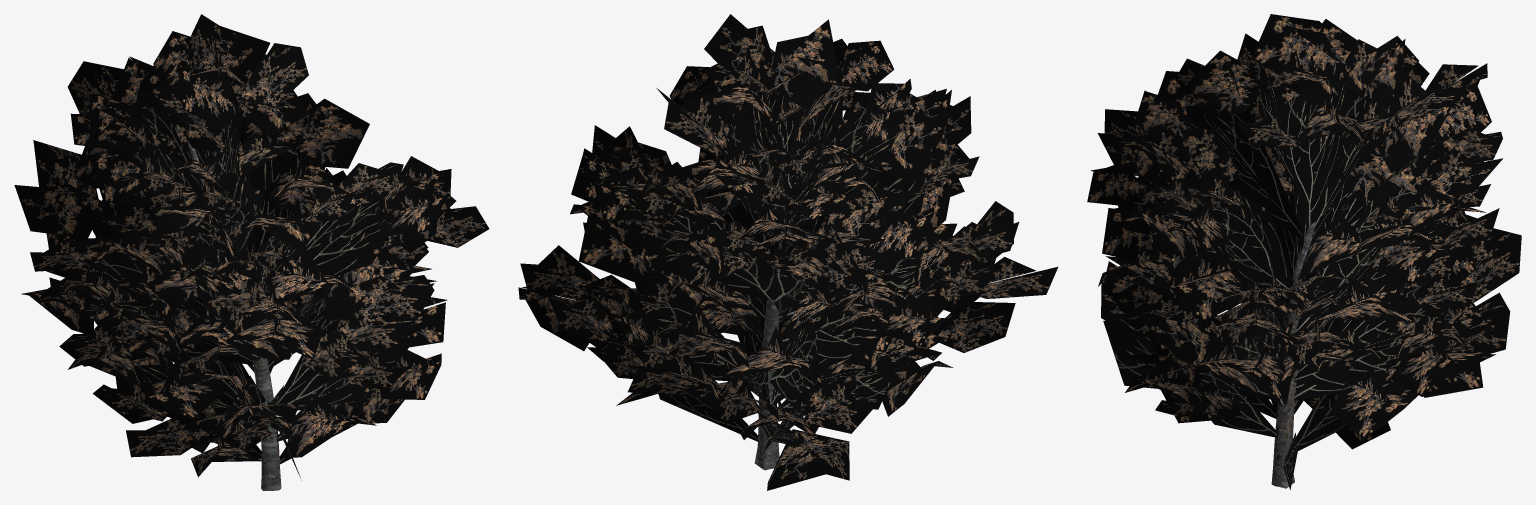
The model's file is Maple_Bush.fbx.
3 renders of one model, left to right at view 1: azimuth 30°, elevation 25°; view 2: azimuth 150°, elevation 25°; view 3: azimuth 270°, elevation 25°, orthographic. The views are drawn at different scales.
Visible parts, largest first — view 1: Leaves_2, Leaves_1, Branch, Tree; view 2: Leaves_2, Leaves_1, Branch, Tree; view 3: Leaves_1, Leaves_2, Branch, Tree.
Boxes of the visible parts, x1,y1,x2,y2 form: Leaves_2: (14,14,489,477); Leaves_1: (21,31,456,457); Branch: (77,62,413,480); Tree: (186,138,281,490); Leaves_2: (520,14,1057,490); Leaves_1: (518,19,987,439); Branch: (643,67,965,454); Tree: (754,147,792,470); Leaves_1: (1087,14,1495,439); Leaves_2: (1097,33,1521,449); Branch: (1103,63,1486,489); Tree: (1271,221,1315,488).
Size of the model in its own units: 5.18 by 5.05 by 4.49.
